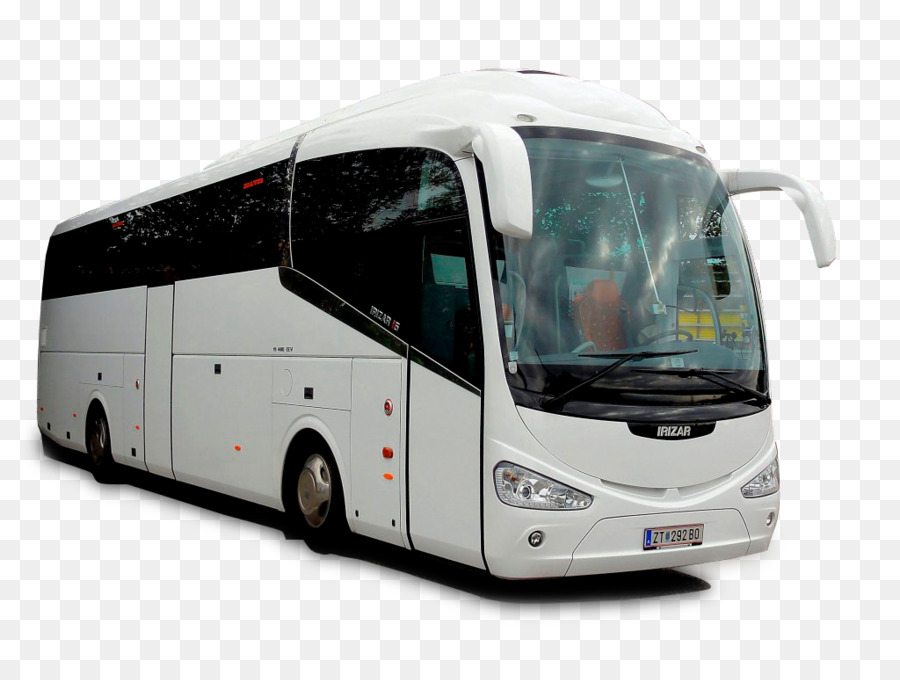bus: (36, 67, 781, 582)
